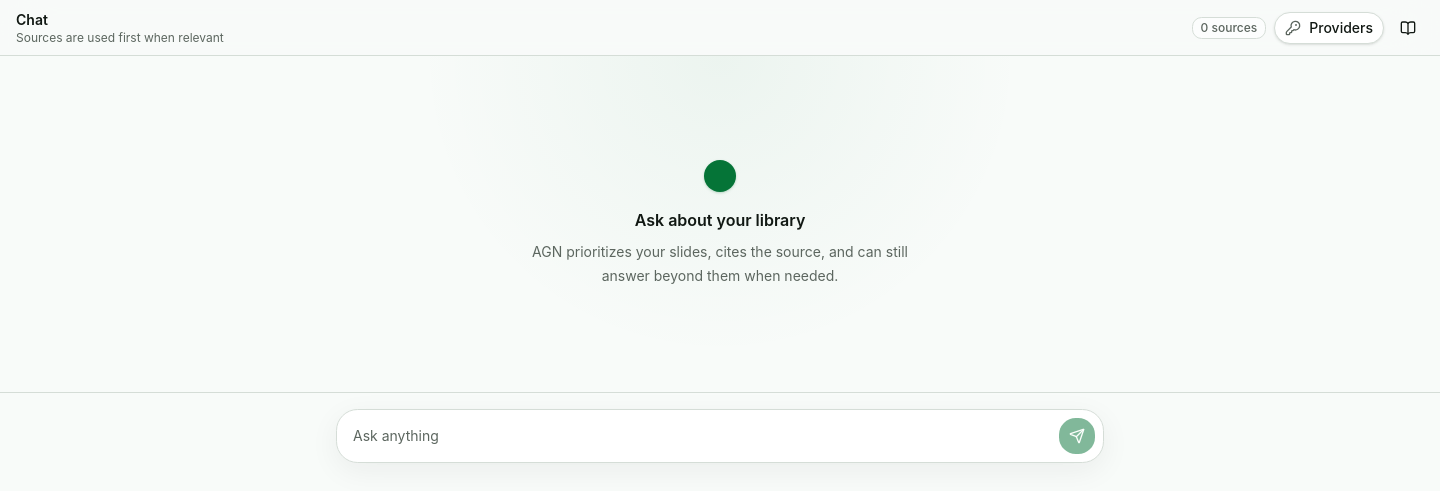
Scenario: chat interactions › persists versioned routing, context, and timing diagnostics for a turn
In the text box named "Ask a question": (698, 436) x1=345 y1=418 x2=1051 y2=454, type "Explain gravity"
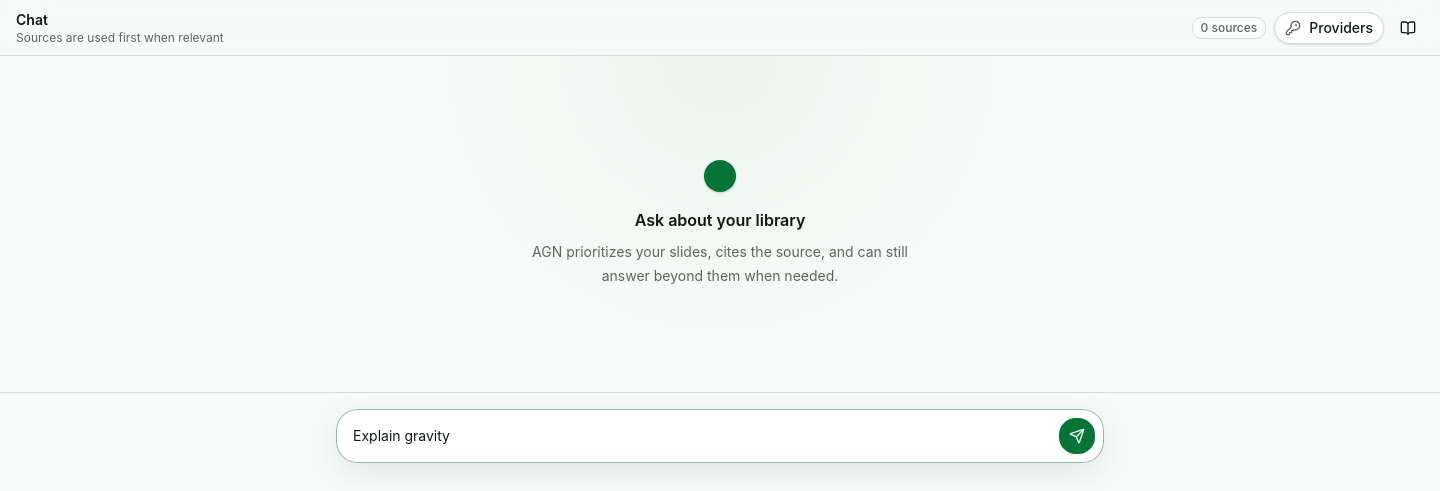
Click the button named "Send question": (1077, 436) x1=1059 y1=418 x2=1095 y2=454
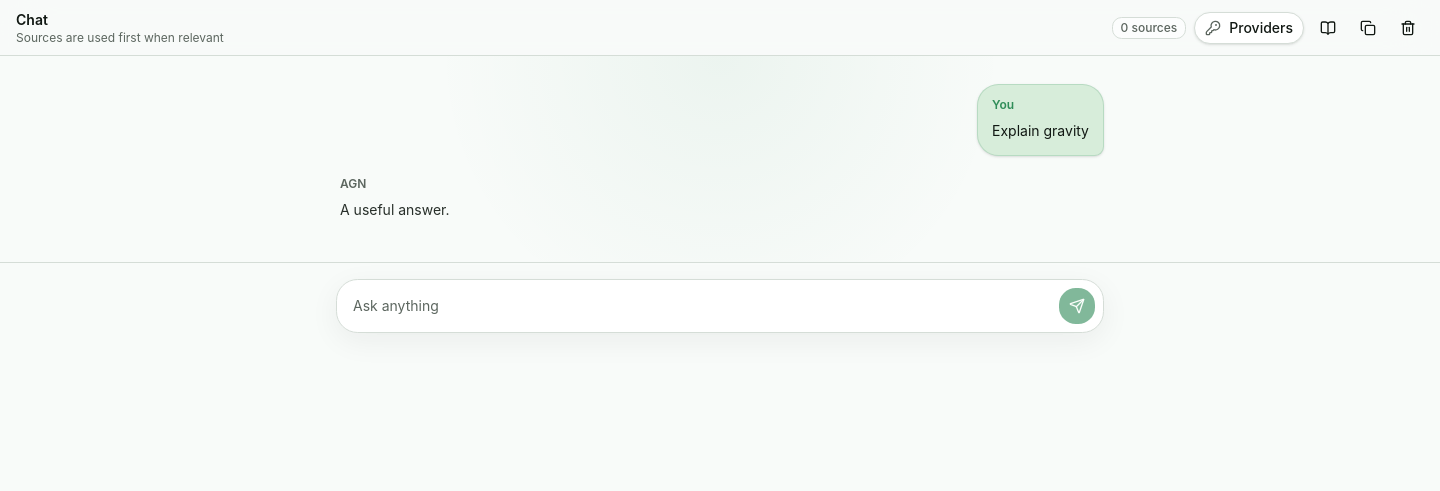
Expected: the text "A useful answer." is shown, x1=340 y1=201 x2=450 y2=218
